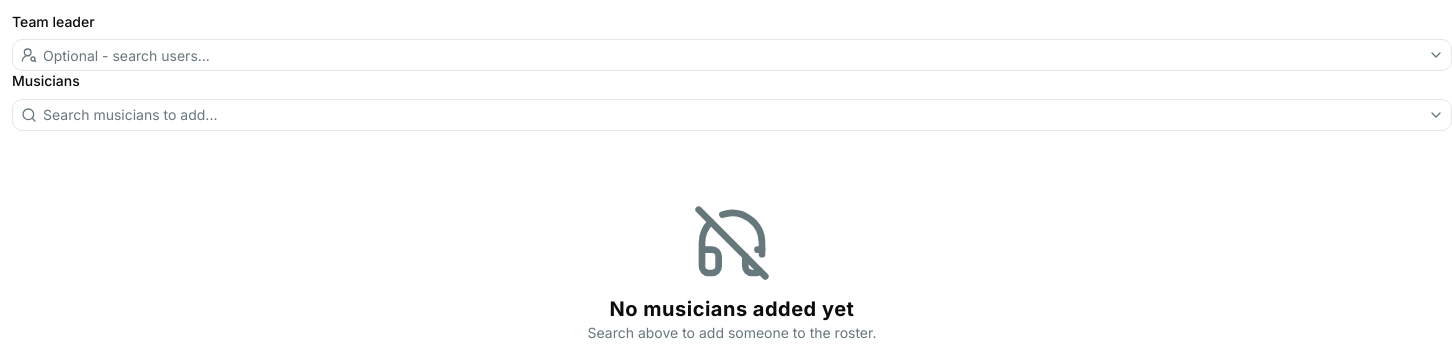
Test: TeamMembershipFields › shows no candidates when the musicians query errors
Click the dropdown with placeholder "Search musicians to add..." at (730, 114), box [37,98,1424,130]
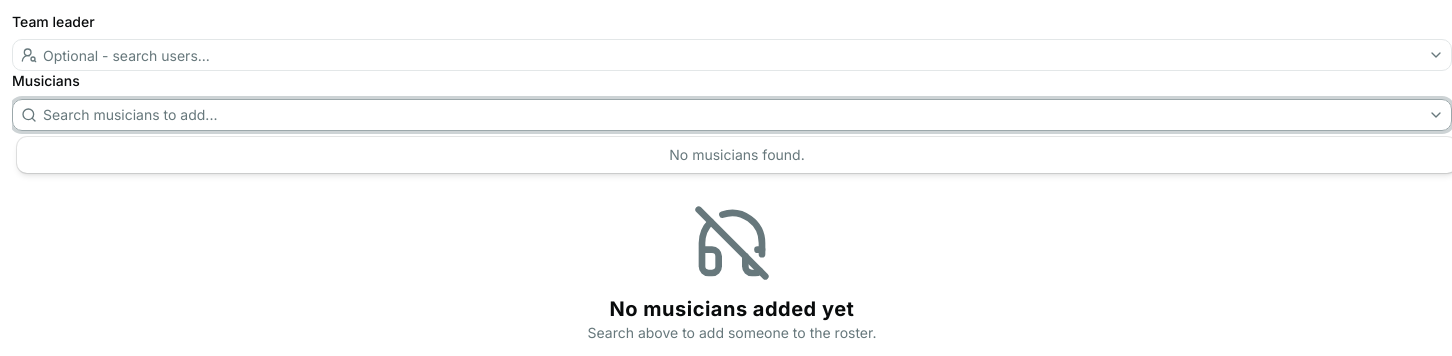
Expected: the text "No musicians found." is shown, [669,146,805,163]
